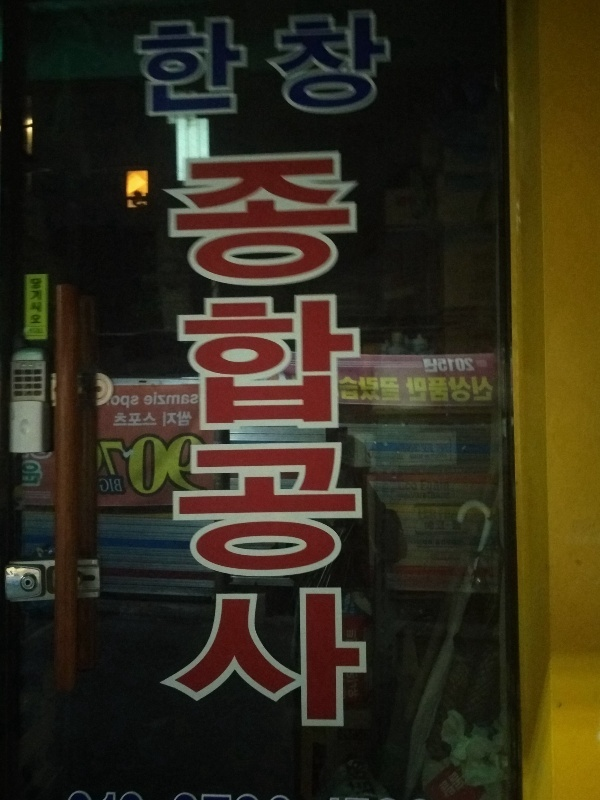text: (177, 149, 192, 737), (193, 149, 208, 737), (209, 149, 224, 737), (225, 149, 240, 737), (241, 149, 256, 737), (257, 149, 272, 737), (273, 149, 288, 737), (289, 149, 304, 737), (305, 149, 320, 737), (321, 149, 336, 737), (337, 149, 352, 737), (353, 149, 364, 737), (369, 419, 384, 603), (385, 419, 400, 603), (401, 419, 416, 603), (417, 419, 432, 603), (433, 419, 448, 603), (449, 419, 464, 603), (465, 419, 480, 603), (481, 419, 496, 603), (145, 7, 160, 124), (161, 7, 176, 124), (177, 7, 192, 124), (193, 7, 208, 124), (209, 7, 224, 124), (225, 7, 240, 124), (241, 7, 256, 124), (257, 7, 272, 124), (273, 7, 288, 124), (289, 7, 304, 124), (305, 7, 320, 124), (321, 7, 336, 124), (337, 7, 352, 124), (353, 7, 368, 124), (369, 7, 384, 124), (132, 7, 144, 124), (361, 419, 368, 603), (497, 419, 504, 603), (113, 435, 128, 498), (129, 435, 144, 498), (145, 435, 160, 498), (161, 435, 176, 498), (177, 435, 192, 498), (193, 435, 208, 498), (99, 435, 112, 498), (175, 149, 176, 737), (385, 7, 390, 124), (481, 371, 497, 406), (353, 371, 368, 406), (369, 371, 384, 406), (385, 371, 400, 406), (401, 371, 416, 406), (417, 371, 432, 406), (433, 371, 448, 406), (449, 371, 464, 406), (465, 371, 480, 406), (338, 371, 352, 406), (33, 279, 42, 325), (433, 356, 448, 382), (449, 356, 464, 382), (113, 388, 128, 411), (129, 388, 144, 411), (145, 388, 160, 411), (161, 388, 176, 411), (177, 388, 192, 411), (465, 356, 477, 382), (99, 475, 112, 496), (129, 409, 144, 427), (145, 409, 160, 427), (161, 409, 176, 427), (177, 409, 192, 427), (113, 475, 125, 496), (22, 461, 32, 486), (423, 356, 432, 382), (33, 461, 42, 486), (116, 409, 128, 427), (193, 388, 199, 411), (30, 279, 32, 325), (33, 327, 44, 335), (209, 435, 210, 498), (29, 327, 32, 335), (111, 388, 112, 411), (193, 409, 194, 427)
